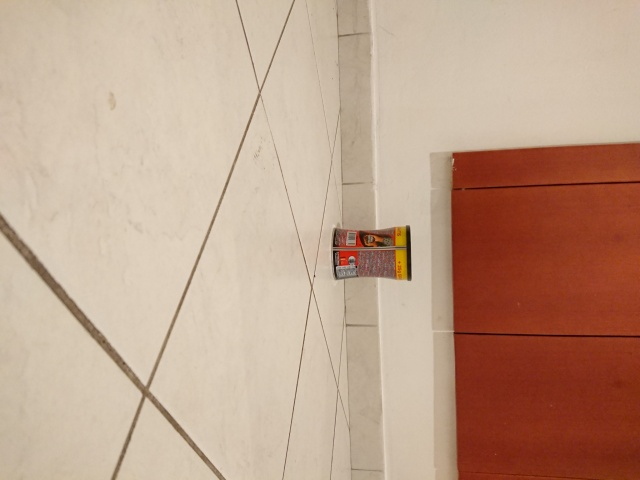Nescafe Classic 225g: (328, 223, 415, 284)
